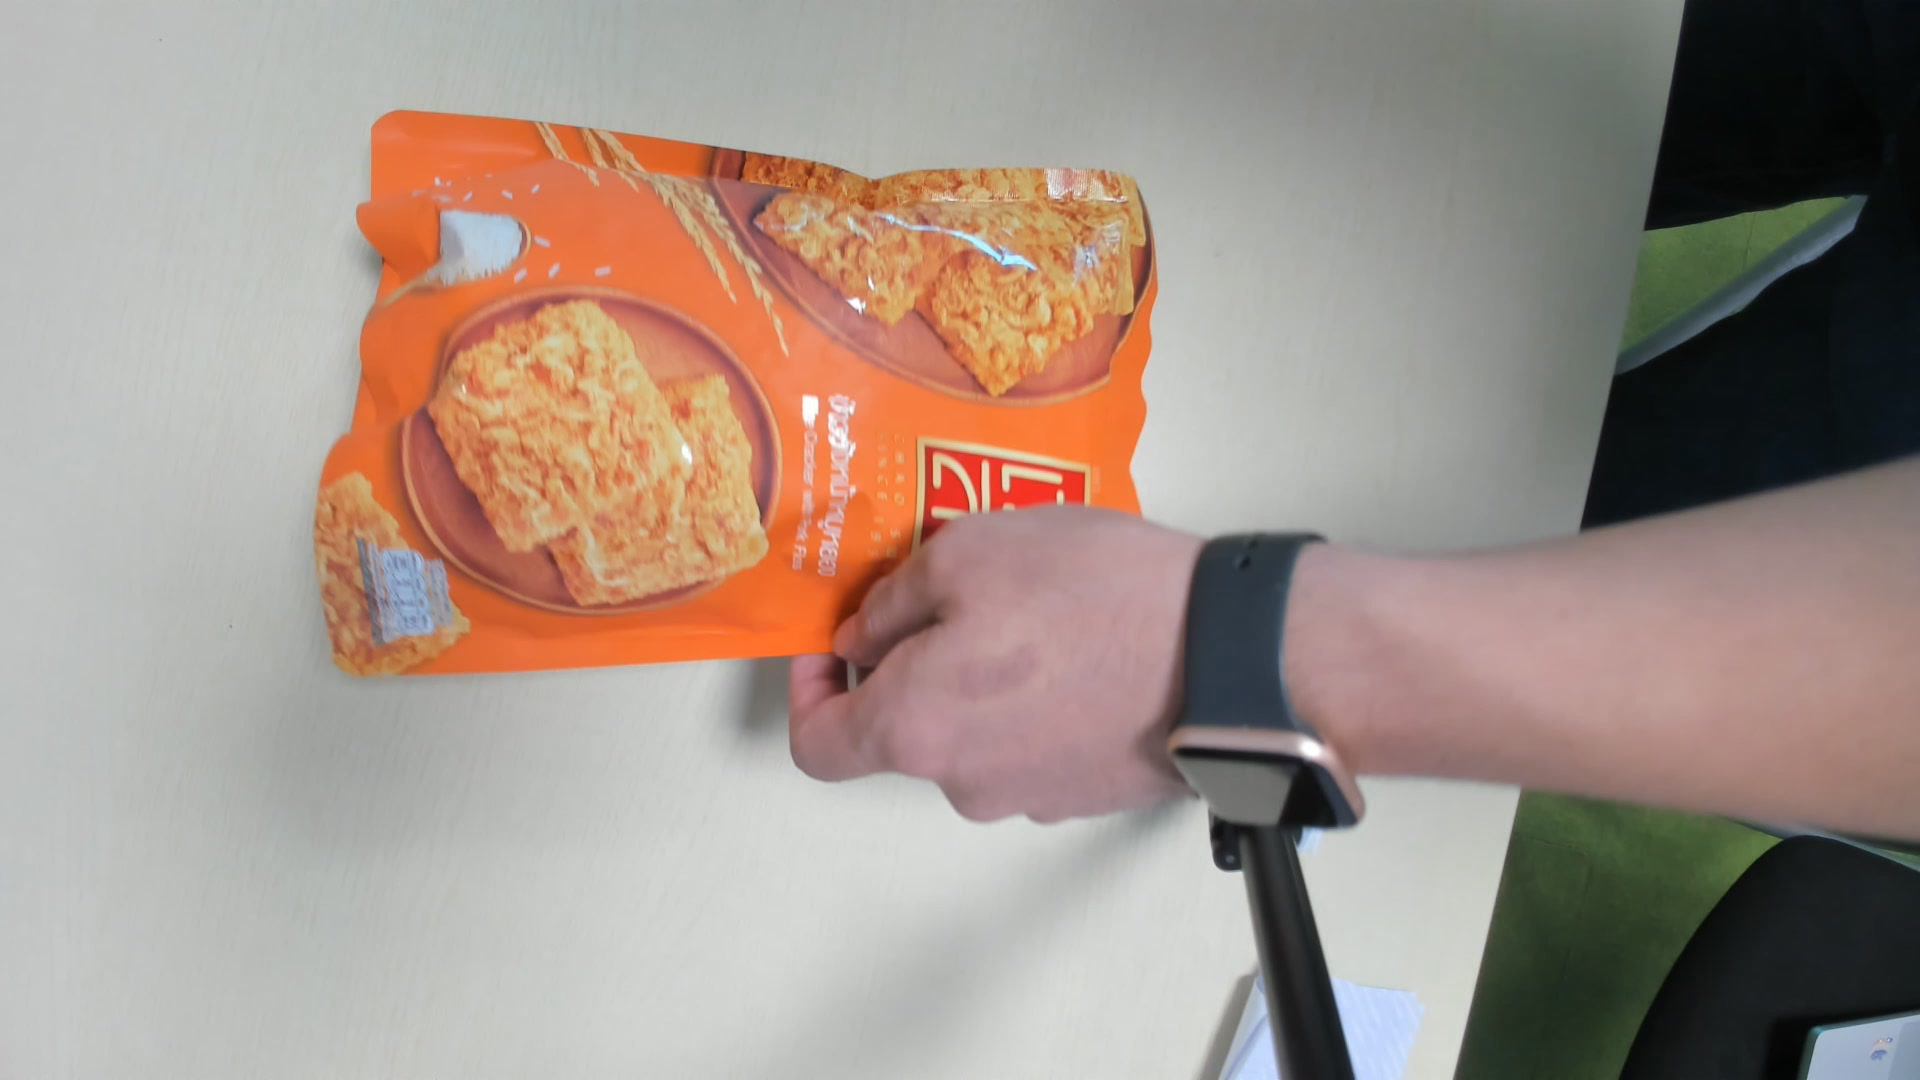PotatoChipsKeropok_0-99g_NonHalal_NonHealthy: (310, 113, 1147, 682)
